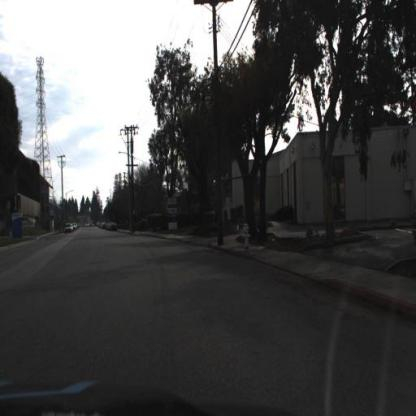car: (108, 223, 119, 232), (66, 225, 72, 235), (101, 224, 107, 230), (107, 224, 112, 231), (74, 224, 79, 230), (72, 225, 77, 231), (85, 224, 89, 228), (88, 225, 91, 228)
